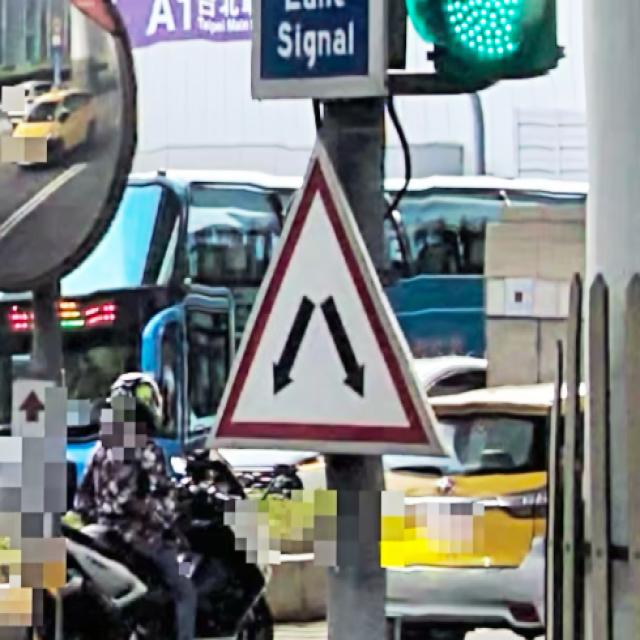diverge: (217, 161, 426, 443)
